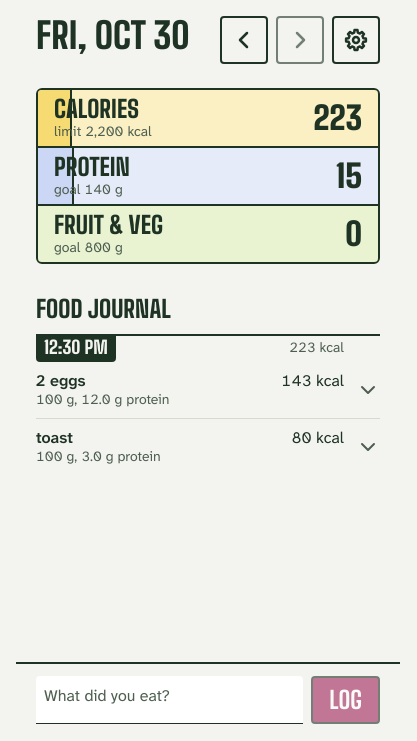
Test: deleting a logged item › opens a row on a tap and closes it on the next, flipping the chevron's state
Expected: the 4th icon is shown, 356,378 -> 380,402
What coordinates should you click on to do the following:
click the button "2 eggs 143 kcal 100 g, 12.0 g protein"
I would click on:
 (61, 381)
Its box is 36,362 -> 380,418.
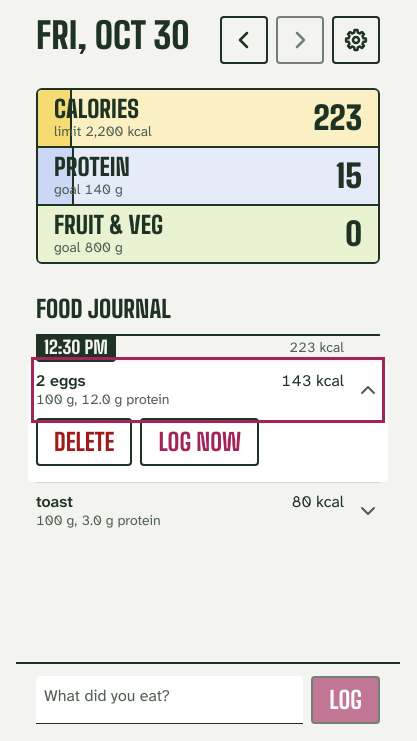
Result: the button "2 eggs 143 kcal 100 g, 12.0 g protein" is expanded
What coordinates should you click on to do the following:
click the button "2 eggs 143 kcal 100 g, 12.0 g protein"
I would click on:
 (61, 381)
Its box is 36,362 -> 380,418.
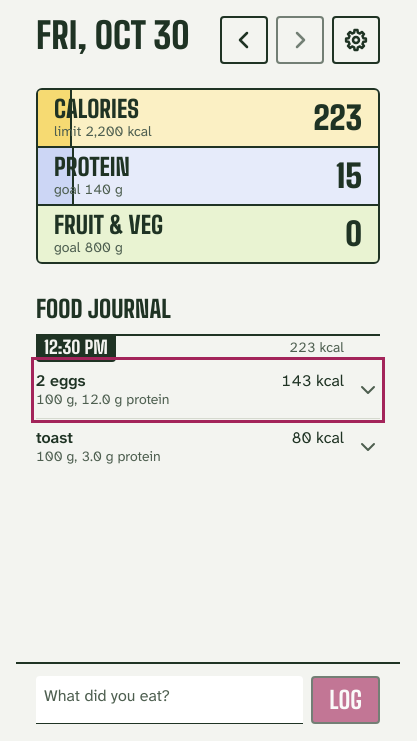
Result: the button "2 eggs 143 kcal 100 g, 12.0 g protein" is collapsed at 36,362 -> 380,418
Result: the button "Delete" is gone
